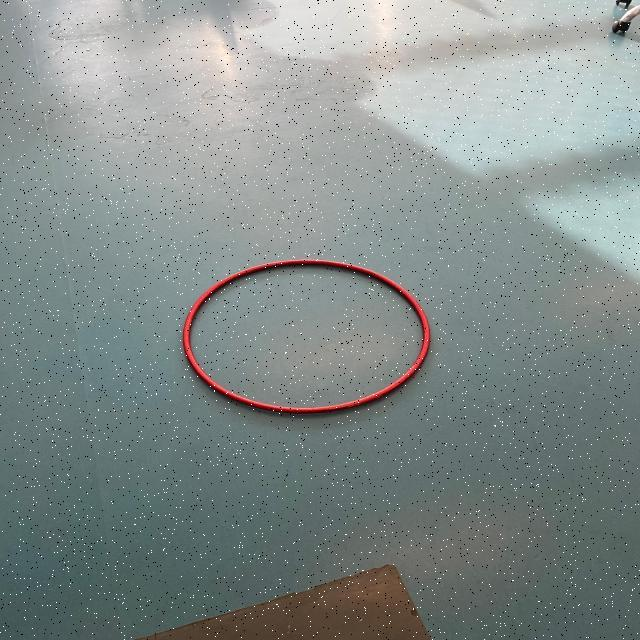Circle: (176, 255, 434, 419)
